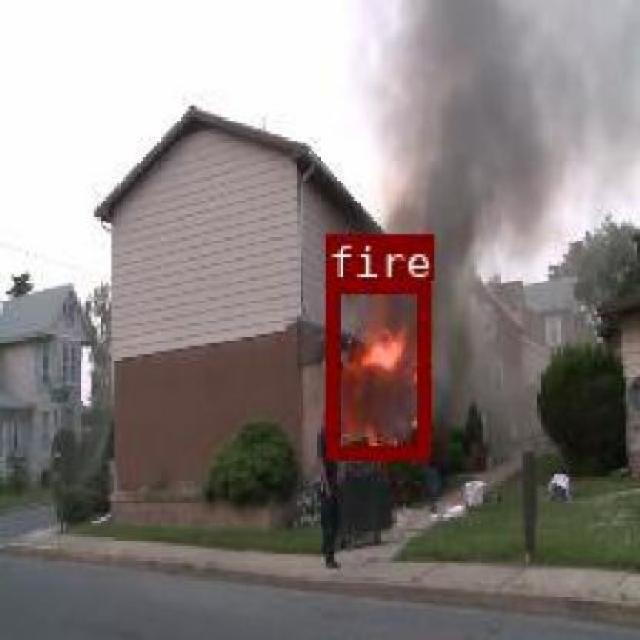Fire: (358, 325, 422, 457)
Smoke: (325, 0, 640, 495)
